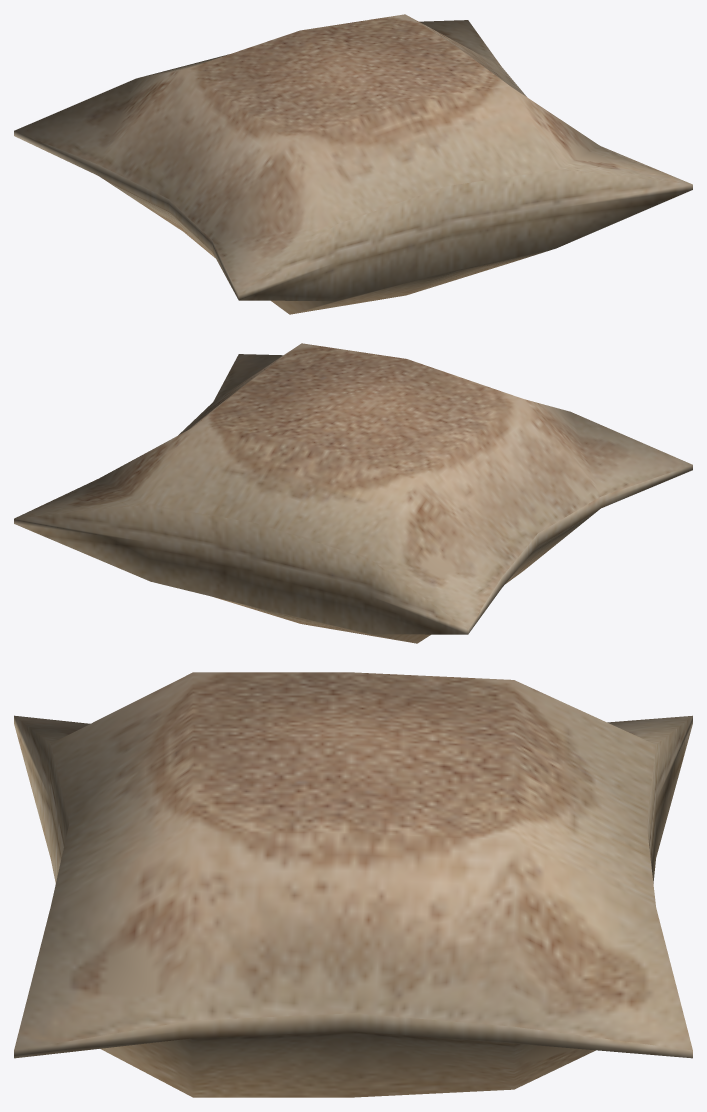
Rendered from Cushion.fbx.
The picture shows the model from 3 angles, top to bottom: view 1: azimuth 30°, elevation 25°; view 2: azimuth 150°, elevation 25°; view 3: azimuth 270°, elevation 25°; orthographic projection. The views are drawn at different scales.
Parts seen in each view (by area): view 1: Cushion_Low; view 2: Cushion_Low; view 3: Cushion_Low.
Boxes of the visible parts, box(x1,y1,x2,y2) form: Cushion_Low: box(14, 14, 692, 314); Cushion_Low: box(14, 343, 692, 643); Cushion_Low: box(14, 672, 692, 1097).
Size of the model in its own units: 0.4914 by 0.1993 by 0.4212.
